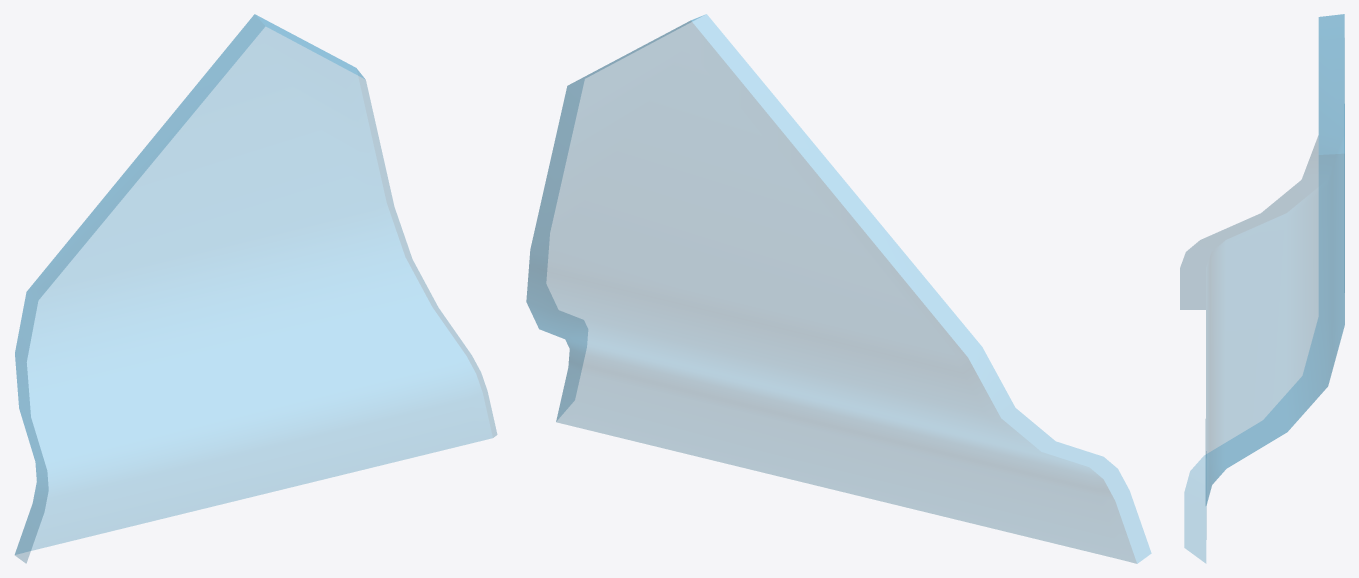
The model's file is p_hvs_minidungeon_rewardlocker_shatterglass_part03.fbx.
3 views of the same model, side by side, from view 1: azimuth 30°, elevation 25°; view 2: azimuth 150°, elevation 25°; view 3: azimuth 270°, elevation 25° (orthographic). The views are drawn at different scales.
Parts seen in each view (by area): view 1: 3_shatterglass; view 2: 3_shatterglass; view 3: 3_shatterglass.
Part boxes in pixels (box(x1,y1,x2,y2)): 3_shatterglass: box(15, 14, 496, 562); 3_shatterglass: box(526, 14, 1151, 563); 3_shatterglass: box(1180, 14, 1344, 562).
Bounding box in the file's own units: 2.1 × 1.76 × 0.576.
